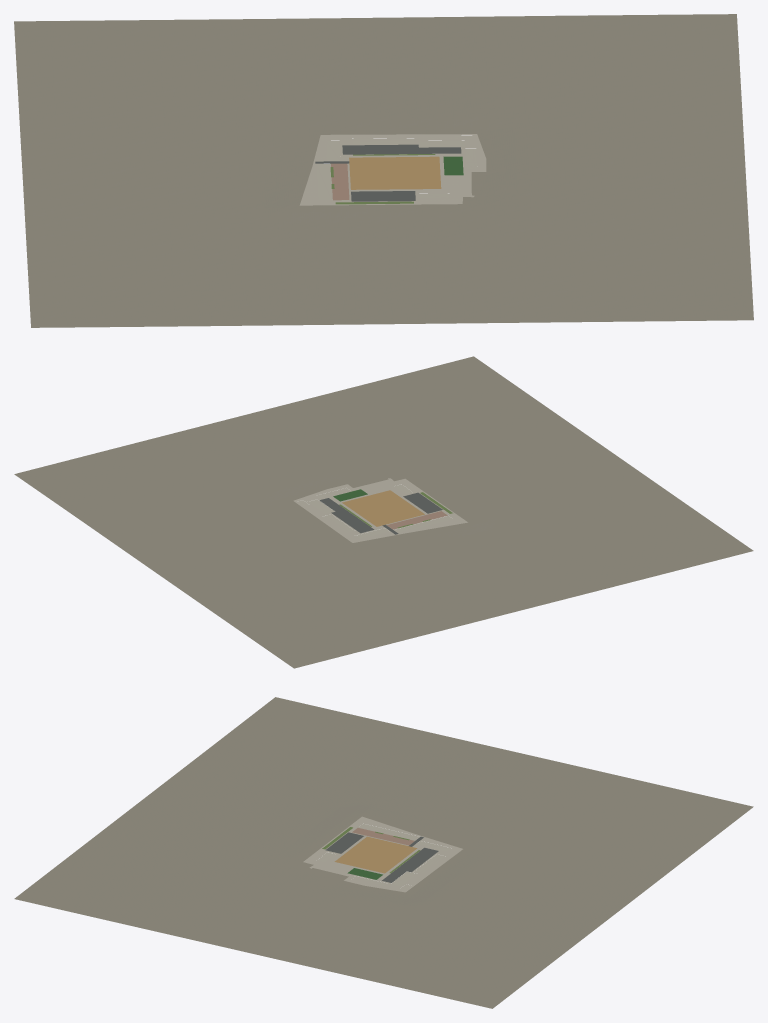
3 renders of one model, top to bottom at view 1: azimuth 30°, elevation 25°; view 2: azimuth 150°, elevation 25°; view 3: azimuth 270°, elevation 25°, orthographic. The views are drawn at different scales.
Parts seen in each view (by area): view 1: ground_context-estimated, surface_school-paved-walk, surface_sports-field, surface_north-forecourt, surface_south-parking-apron, surface_ginkgo-courtyard-walk, surface_underbuilding-gugwan; view 2: ground_context-estimated, surface_school-paved-walk, surface_sports-field, surface_north-forecourt; view 3: ground_context-estimated, surface_school-paved-walk, surface_sports-field, surface_north-forecourt.
Boxes of the visible parts, box(x1,y1,x2,y2) form: ground_context-estimated: box(14, 14, 753, 327); surface_school-paved-walk: box(299, 134, 486, 205); surface_sports-field: box(349, 156, 441, 189); surface_north-forecourt: box(342, 144, 461, 154); surface_south-parking-apron: box(351, 191, 415, 201); surface_ginkgo-courtyard-walk: box(331, 163, 349, 200); surface_underbuilding-gugwan: box(316, 164, 331, 200); ground_context-estimated: box(14, 356, 753, 668); surface_school-paved-walk: box(293, 478, 467, 542); surface_sports-field: box(342, 490, 424, 526); surface_north-forecourt: box(319, 498, 374, 533); ground_context-estimated: box(14, 697, 753, 1008); surface_school-paved-walk: box(303, 816, 462, 892); surface_sports-field: box(334, 836, 417, 873); surface_north-forecourt: box(382, 847, 438, 882).
Bounding box in the file's own units: 977 × 1.34 × 977.
7 materials, 7 textured.
